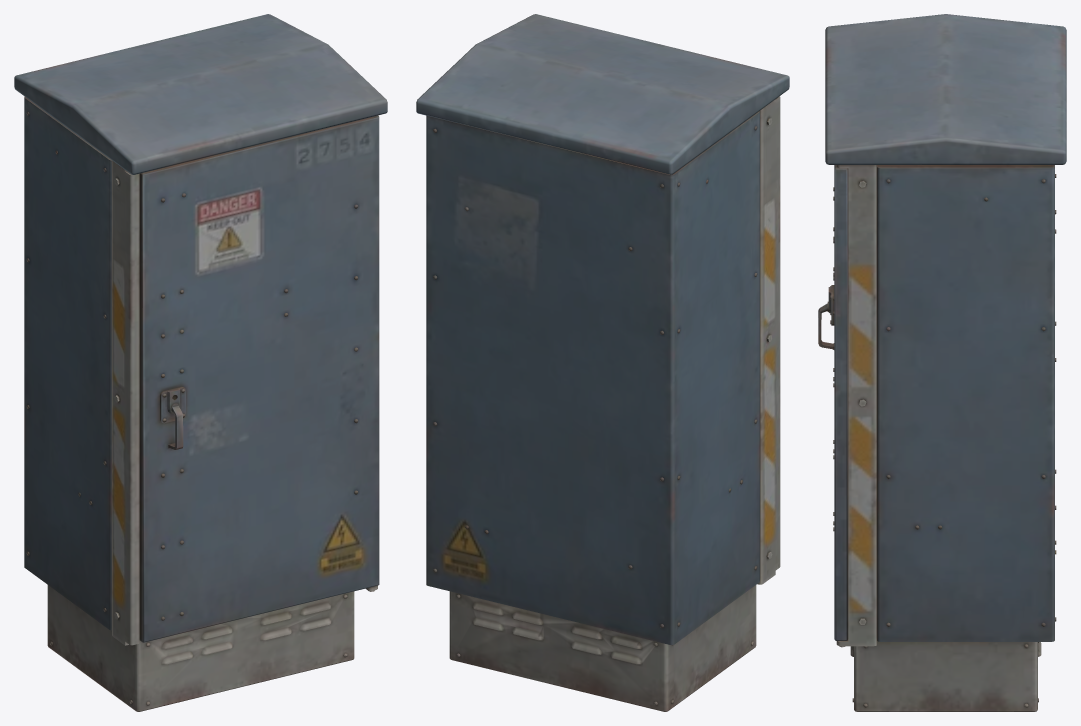
Rendered from utility_box_01.efe3b06a70.glb.
3 renders of one model, left to right at view 1: azimuth 30°, elevation 25°; view 2: azimuth 150°, elevation 25°; view 3: azimuth 270°, elevation 25°, orthographic.
Parts seen in each view (by area): view 1: utility_box_01_box; view 2: utility_box_01_box; view 3: utility_box_01_box.
Part boxes in pixels (box(x1,y1,x2,y2)): utility_box_01_box: box(14, 14, 387, 711); utility_box_01_box: box(416, 14, 789, 711); utility_box_01_box: box(818, 14, 1066, 711).
Bounding box in the file's own units: 0.52 × 1.12 × 0.4319.
Materials: 1 (1 with a texture image).
